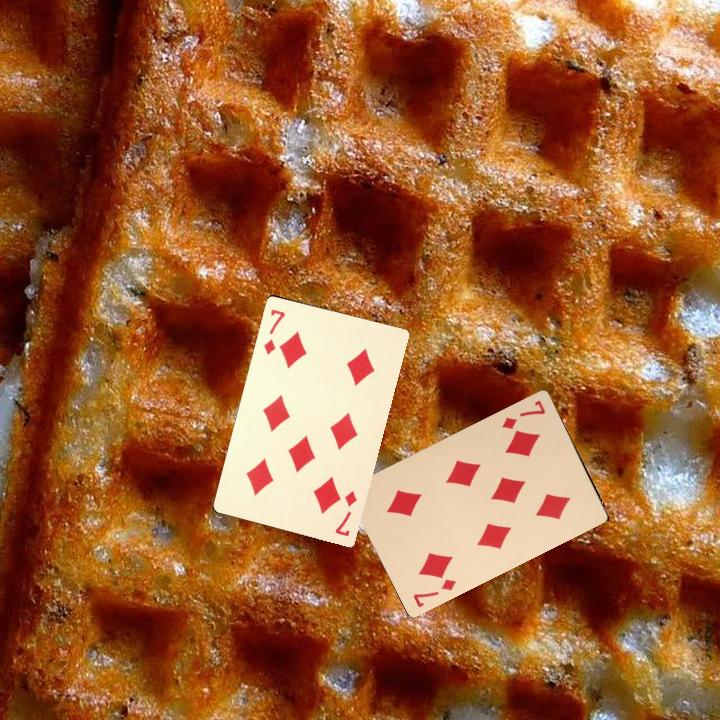7d: (498, 396, 548, 432), (409, 575, 459, 610), (331, 486, 359, 539), (260, 305, 288, 357)
